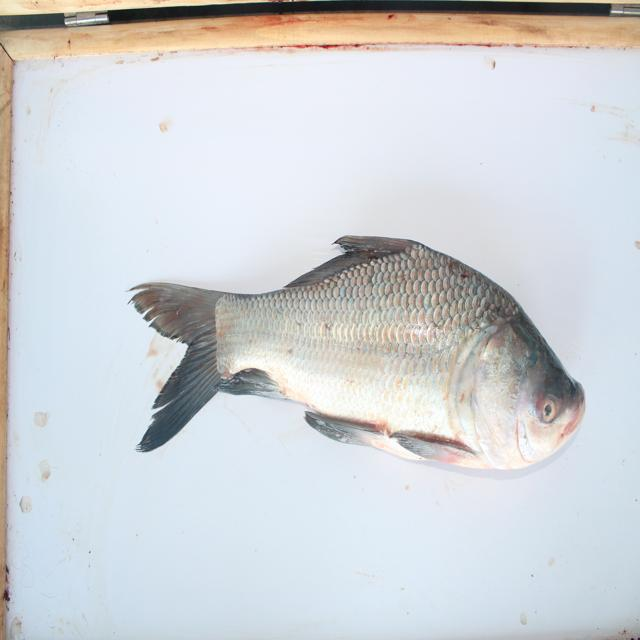Catla: (102, 229, 590, 486)
